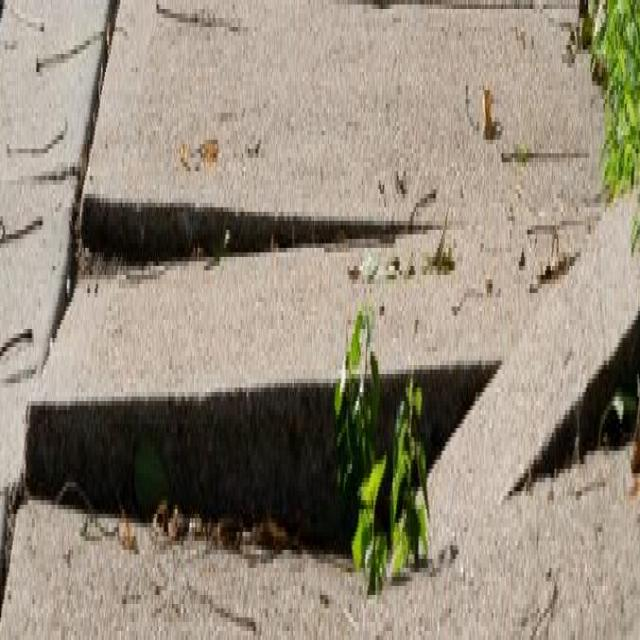bump: (38, 225, 565, 640)
